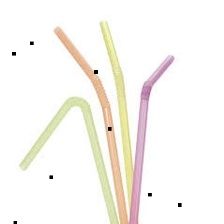drinking_straw: (14, 90, 121, 224), (126, 49, 181, 223)
